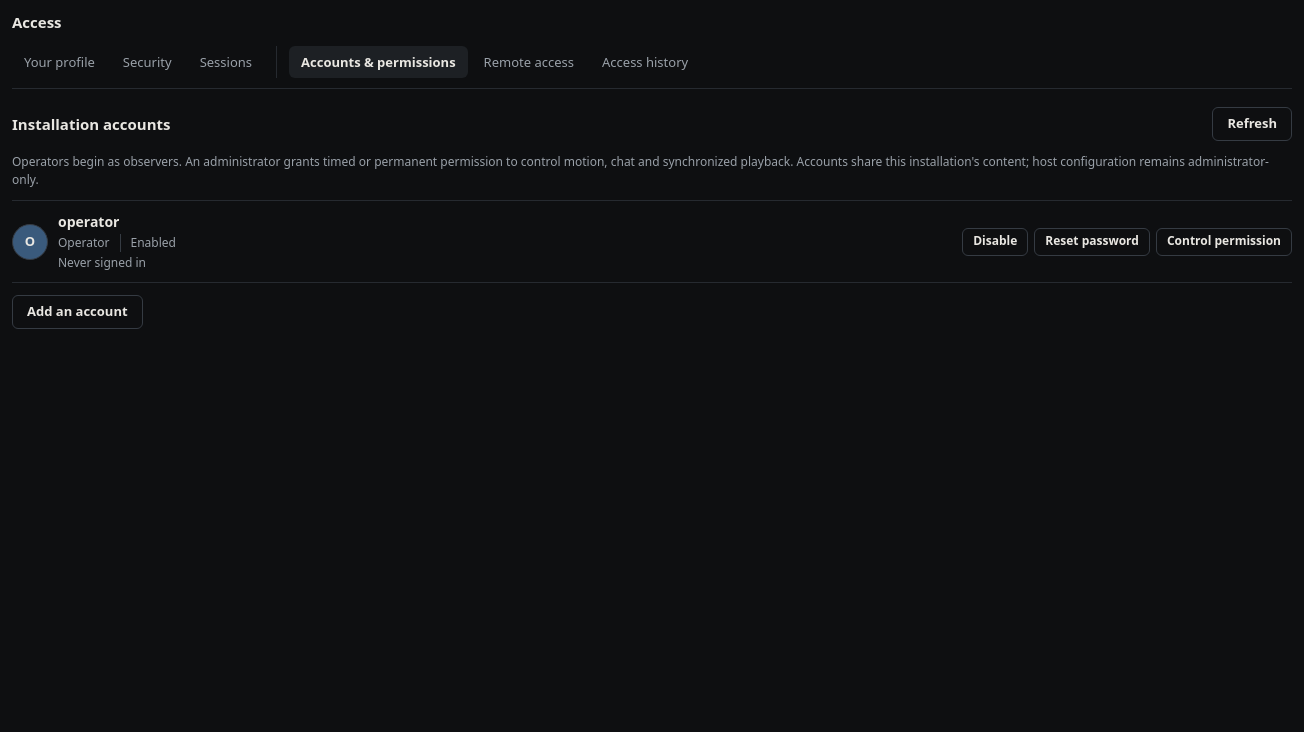
Test: account settings task navigation › does not offer a control grant when the current permission could not be read
The image size is (1304, 732).
Check: the text "operator" is shown, box [58,212,119,231]
Click the button "Control permission" at (1224, 242), box [1156,228,1292,256]
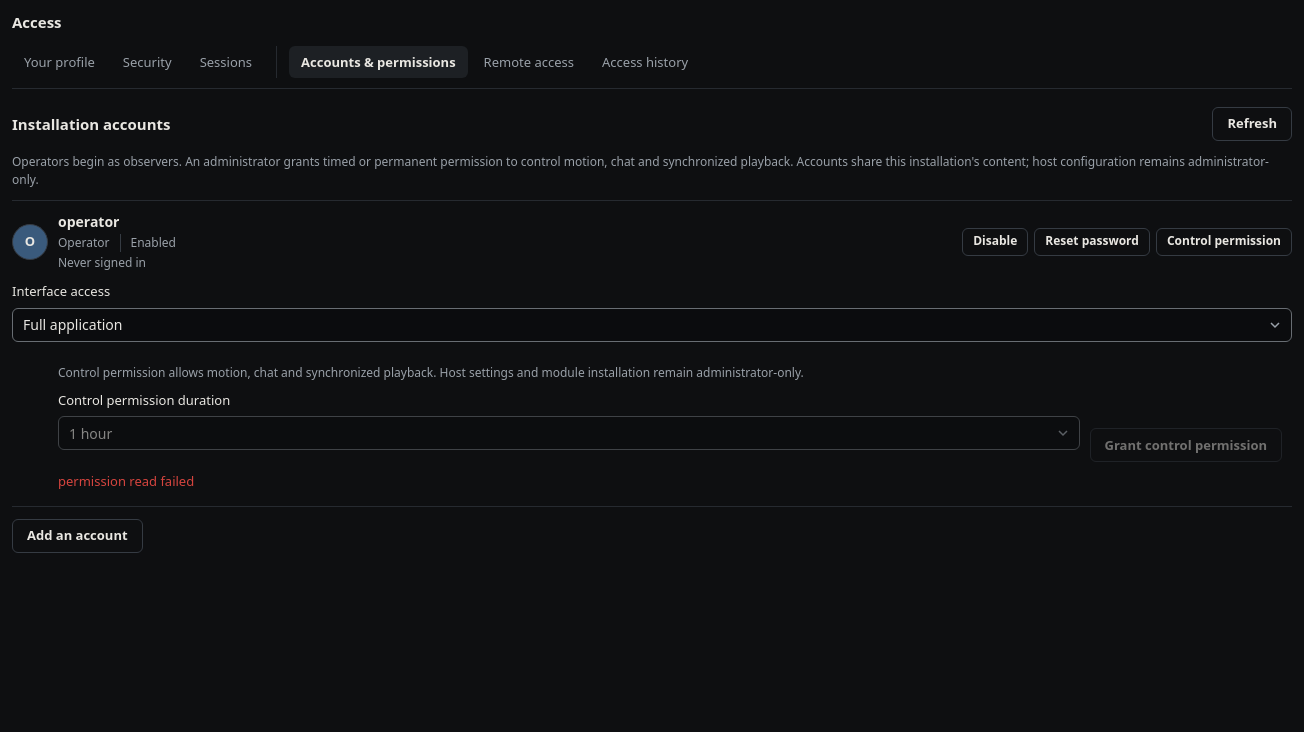
Check: the message reads "permission read failed", box [58,472,194,490]
Check: the button "Grant control permission" is disabled, box [1090,428,1282,462]
